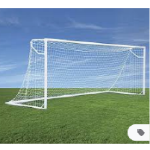goals: (3, 36, 148, 112)
